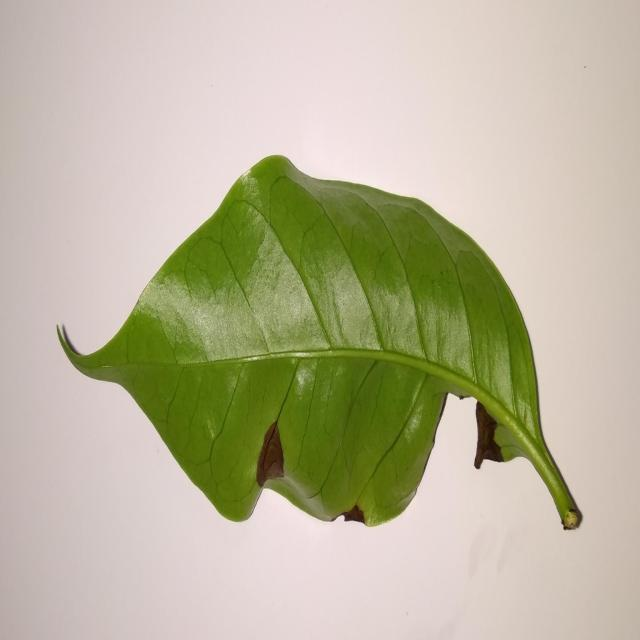Enfermedad-Antracnosis: (54, 156, 584, 535)
